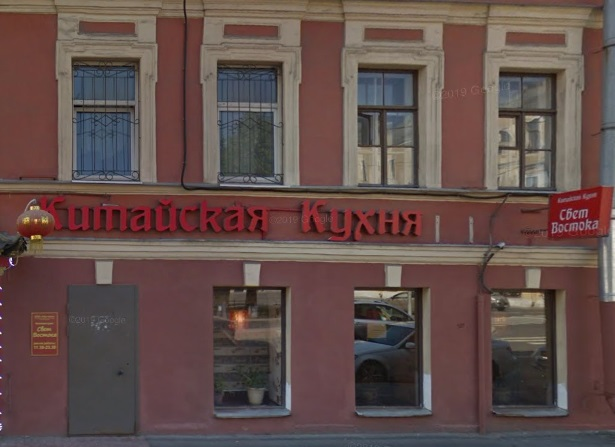cantilever: (515, 188, 615, 240)
signboard: (36, 191, 431, 240)
window: (212, 286, 289, 412), (71, 63, 139, 183), (491, 289, 559, 409), (357, 291, 424, 409), (218, 66, 283, 183), (496, 73, 555, 188), (358, 68, 414, 187)
